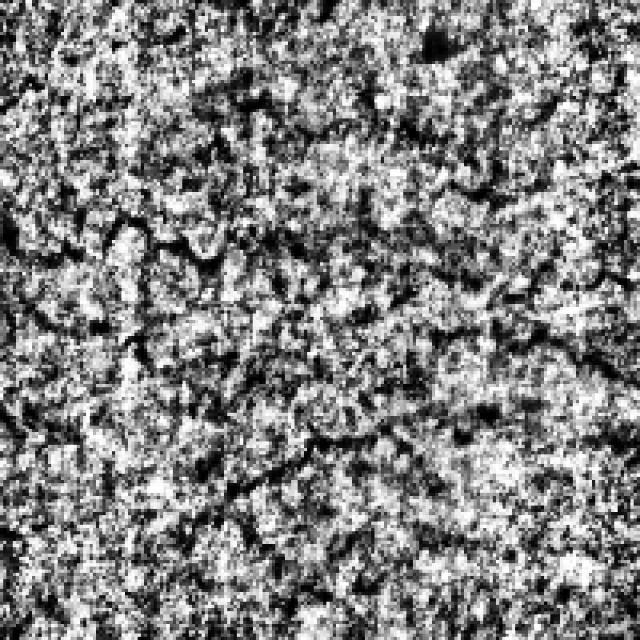Pitted_Surface: (3, 202, 320, 404), (182, 422, 422, 608), (348, 250, 634, 390)
